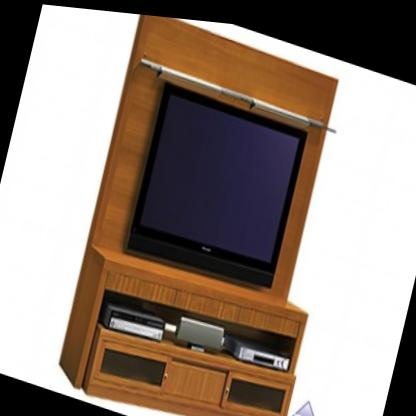TV stand: (55, 4, 369, 416)
